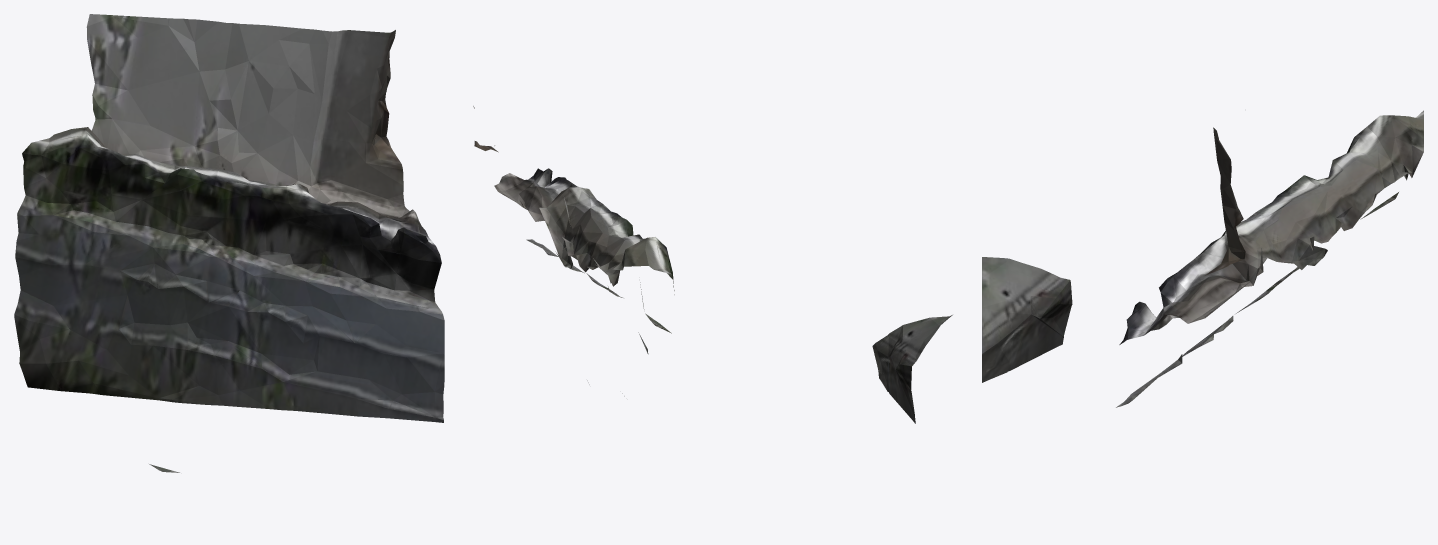
3 renders of one model, left to right at view 1: azimuth 30°, elevation 25°; view 2: azimuth 150°, elevation 25°; view 3: azimuth 270°, elevation 25°, orthographic. The views are drawn at different scales.
Size of the model in its own units: 1.67 by 1.67 by 1.67.
Materials: 3 (3 with a texture image).
